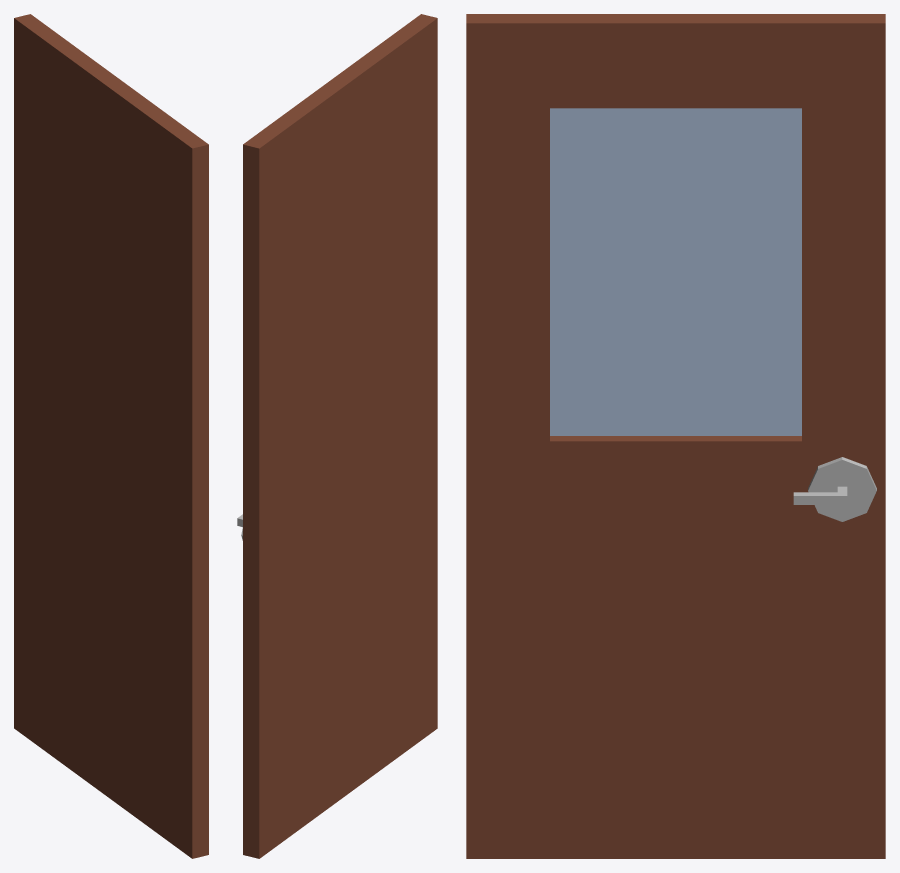
File: door.fbx
3 views of the same model, side by side, from view 1: azimuth 30°, elevation 25°; view 2: azimuth 150°, elevation 25°; view 3: azimuth 270°, elevation 25° (orthographic). The views are drawn at different scales.
Parts seen in each view (by area): view 1: Puerta; view 2: Puerta; view 3: Puerta.
Part boxes in pixels (left/top/right/bottom): Puerta: left=14, top=14, right=208, bottom=858; Puerta: left=237, top=14, right=437, bottom=858; Puerta: left=466, top=14, right=885, bottom=858.
Size of the model in its own units: 22.73 by 400 by 182.
